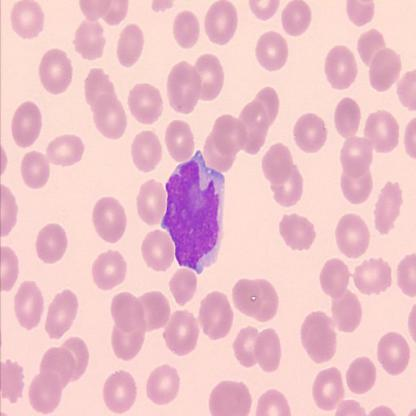Blast: (159, 146, 227, 276)
